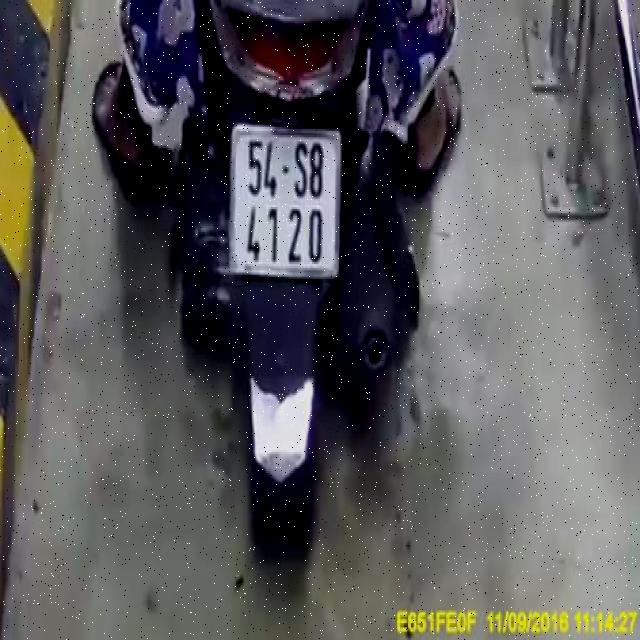0: (305, 206, 324, 264)
1: (266, 205, 283, 268)
2: (284, 204, 304, 265)
4: (244, 204, 264, 266), (263, 141, 280, 200)
5: (247, 140, 265, 198)
8: (310, 142, 326, 201)
S: (292, 142, 308, 196)
